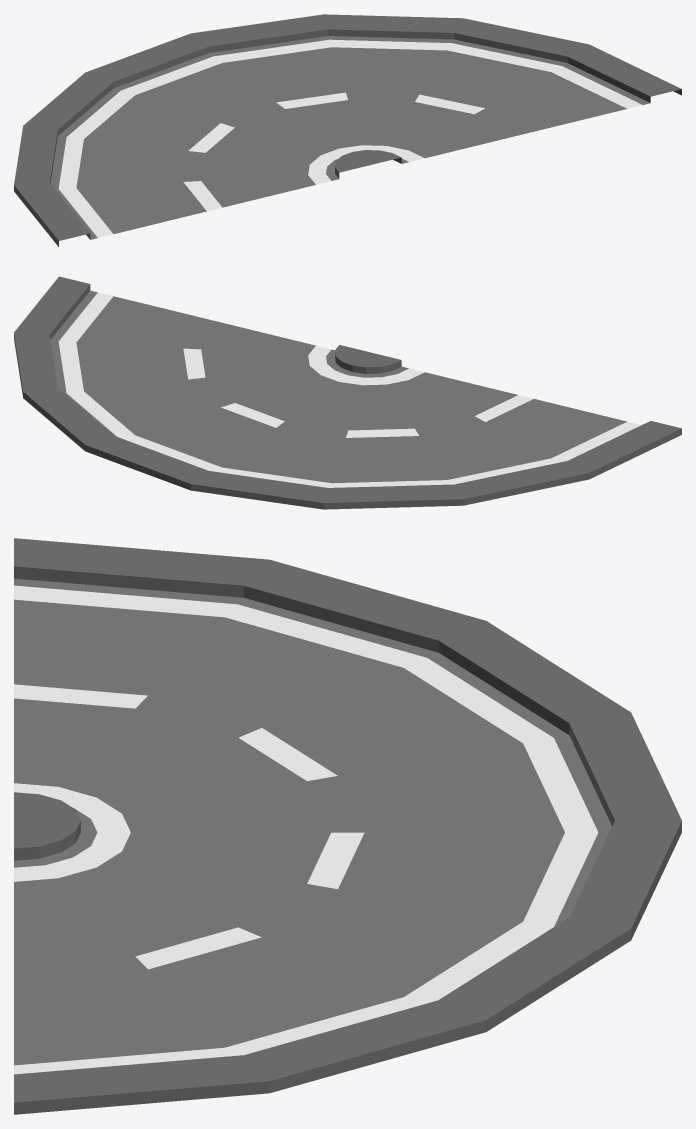
The model's file is URoad.fbx.
3 views of the same model, one above another, from view 1: azimuth 30°, elevation 25°; view 2: azimuth 150°, elevation 25°; view 3: azimuth 270°, elevation 25° (orthographic). The views are drawn at different scales.
Visible parts, largest first — view 1: URoad; view 2: URoad; view 3: URoad.
Boxes of the visible parts, x1,y1,x2,y2 form: URoad: (14,14,681,246); URoad: (14,276,681,509); URoad: (14,538,681,1114).
Size of the model in its own units: 2000 by 20 by 1000.
